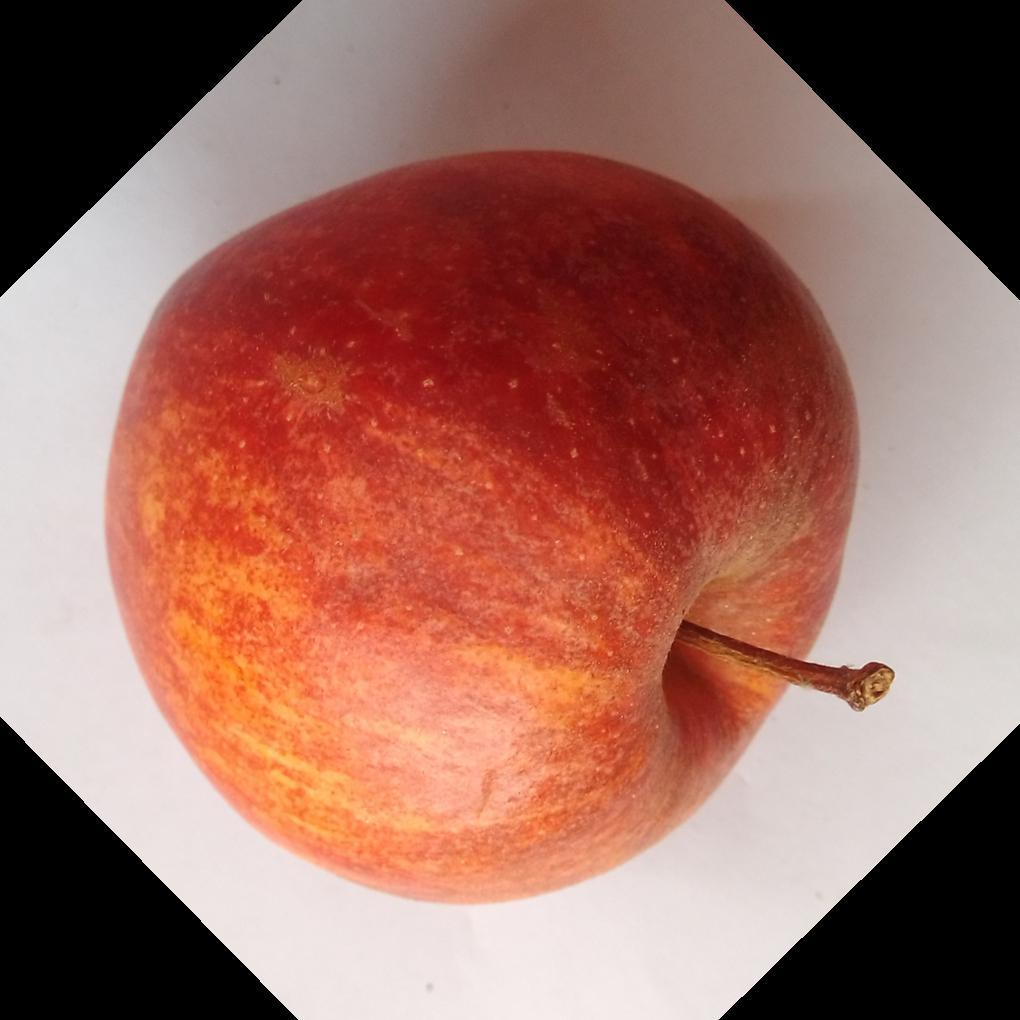FreshGuava: (101, 150, 894, 911)
